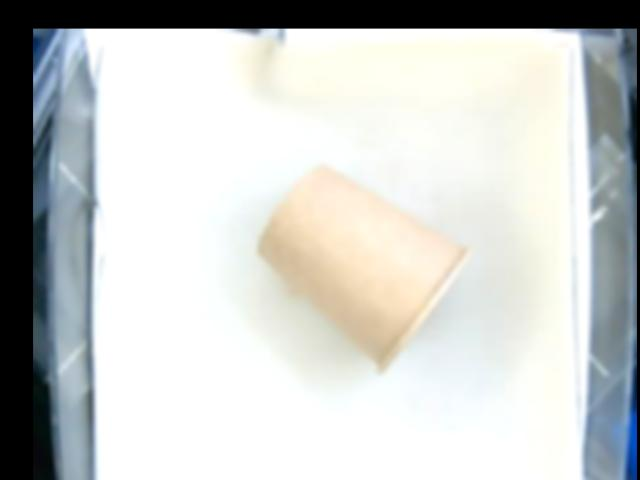Cup: (253, 163, 470, 374)
